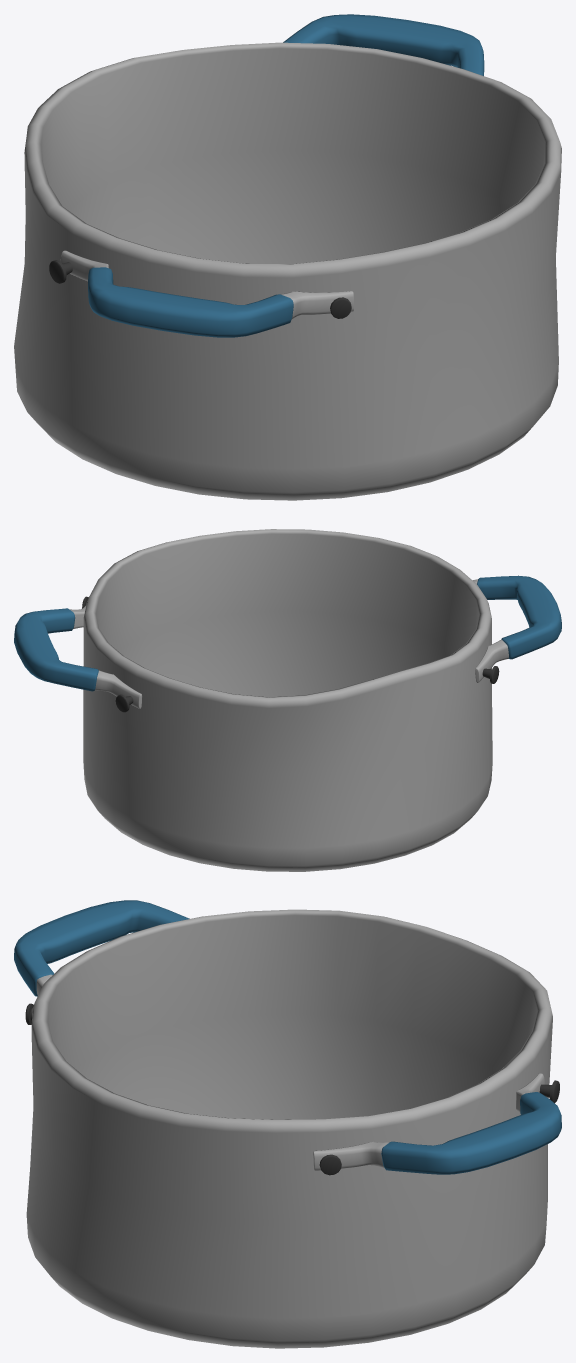
Rendered from PotA_SM.fbx.
3 renders of one model, top to bottom at view 1: azimuth 30°, elevation 25°; view 2: azimuth 150°, elevation 25°; view 3: azimuth 270°, elevation 25°, orthographic. The views are drawn at different scales.
Visible parts, largest first — view 1: PotA_SM; view 2: PotA_SM; view 3: PotA_SM.
Boxes of the visible parts, bbox=[...] form: PotA_SM: bbox=[14, 14, 561, 500]; PotA_SM: bbox=[14, 529, 561, 871]; PotA_SM: bbox=[14, 900, 561, 1348].
Bounding box in the file's own units: 0.5789 × 0.2534 × 0.5229.
